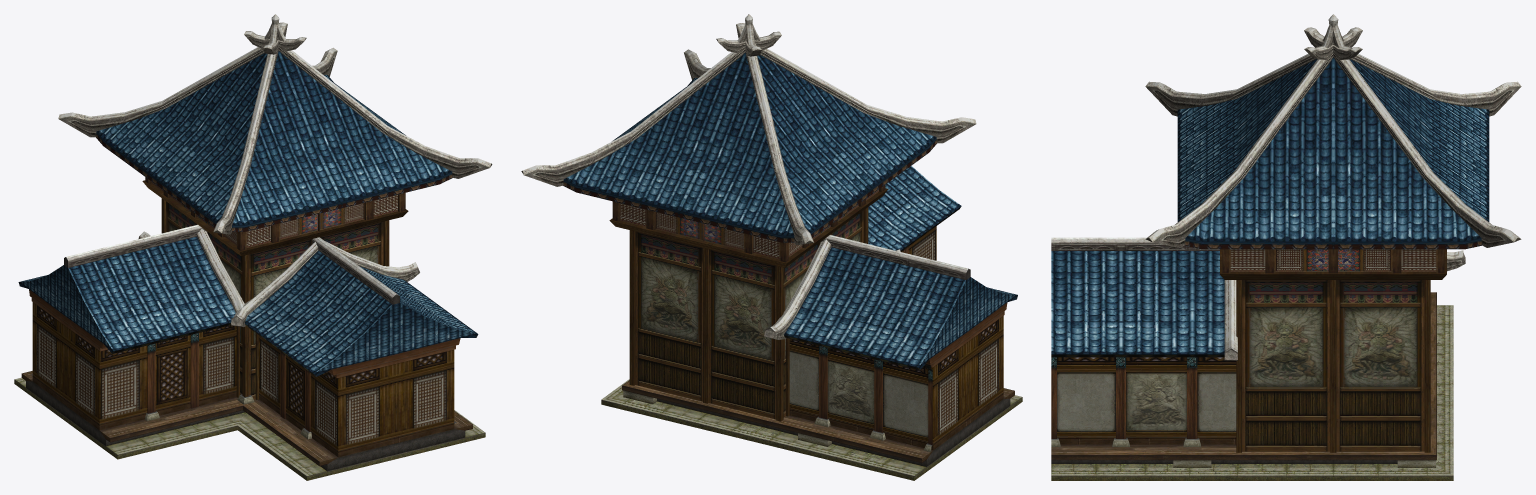
Rendered from secret_wall_corner_01.glb.
3 views of the same model, side by side, from view 1: azimuth 30°, elevation 25°; view 2: azimuth 150°, elevation 25°; view 3: azimuth 270°, elevation 25° (orthographic). The views are drawn at different scales.
Visible parts, largest first — view 1: secret_wall_corner_01; view 2: secret_wall_corner_01; view 3: secret_wall_corner_01.
Part boxes in pixels (box(x1,y1,x2,y2)): secret_wall_corner_01: box(14, 14, 492, 480); secret_wall_corner_01: box(521, 14, 1022, 480); secret_wall_corner_01: box(1051, 14, 1521, 480).
Size of the model in its own units: 25.01 by 24.41 by 25.01.
7 materials, 7 textured.
